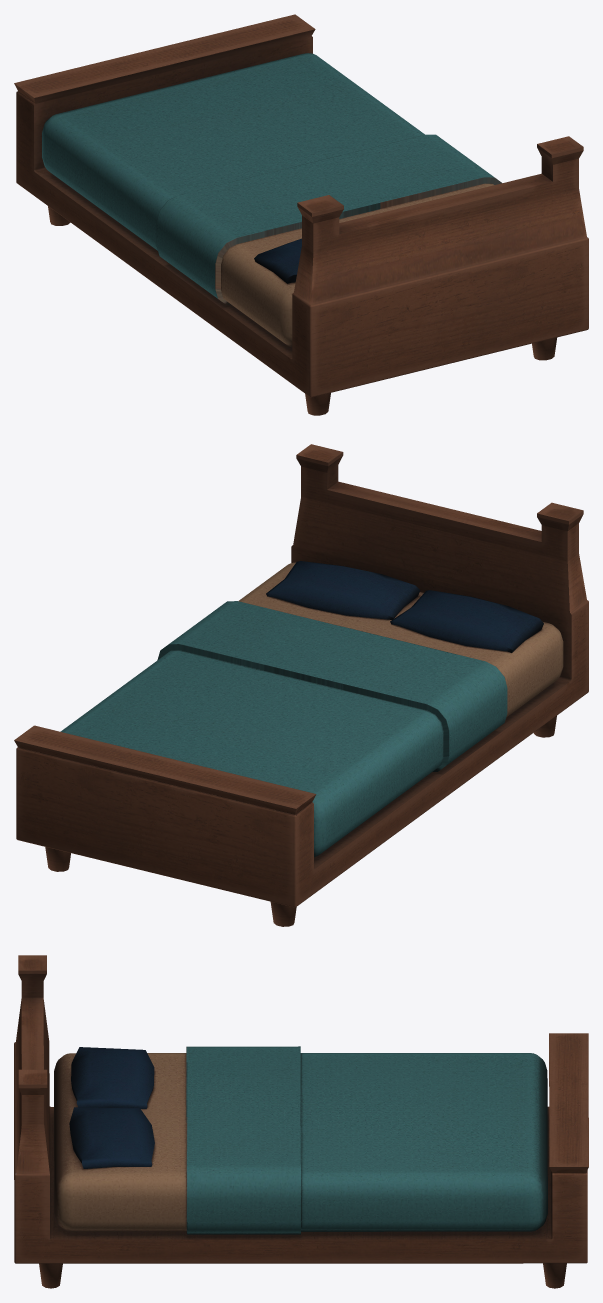
Rendered from postel.fbx.
The picture shows the model from 3 angles, top to bottom: view 1: azimuth 30°, elevation 25°; view 2: azimuth 150°, elevation 25°; view 3: azimuth 270°, elevation 25°; orthographic projection. The views are drawn at different scales.
Visible parts, largest first — view 1: bed_4; view 2: bed_4; view 3: bed_4.
Boxes of the visible parts, <box> form: bed_4: <box>14,14,588,415</box>; bed_4: <box>14,444,588,926</box>; bed_4: <box>14,955,588,1288</box>.
Size of the model in its own units: 540 by 384 by 948.
Materials: 1 (1 with a texture image).
